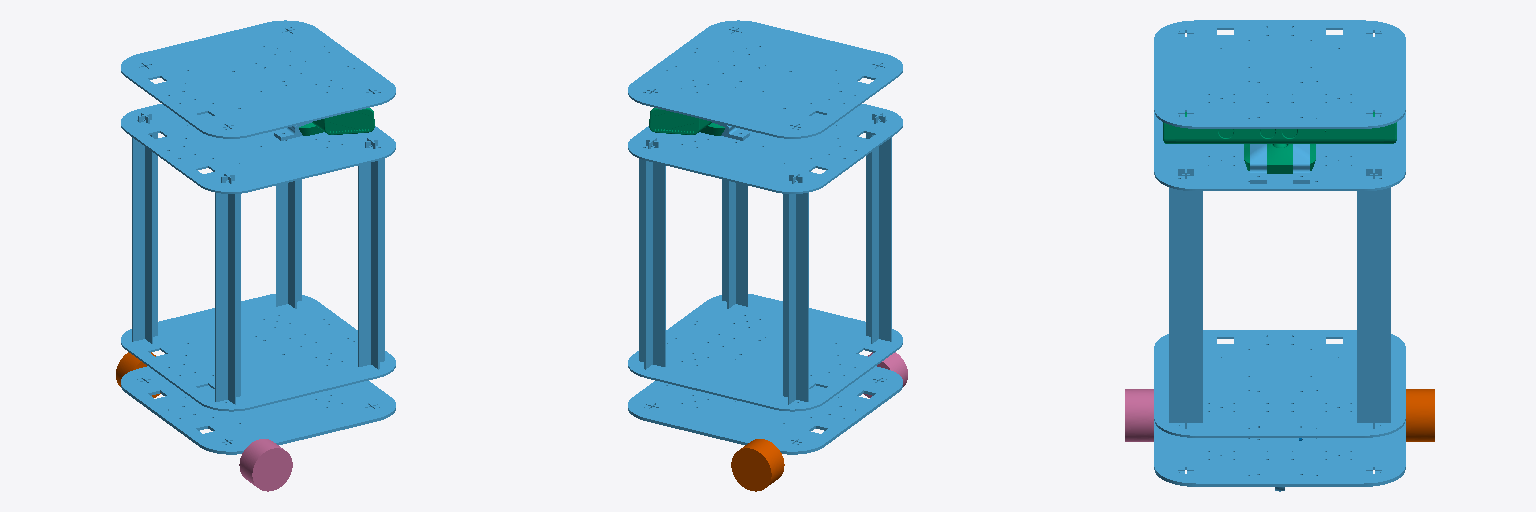
URDF robot description (kafebot):
<?xml version="1.0"?>
<robot name="kafebot">
  <link name="base_footprint">
  </link>
  <link name="base_link">
    <visual>
      <geometry>
        <mesh filename="package://kafebot/model/mesh/Frame.stl"/>
      </geometry>
      <origin xyz="0 0 0" rpy="0 0 0"/>
    </visual>
    <collision>
      <geometry>
        <mesh filename="package://kafebot/model/mesh/Frame.stl"/>
      </geometry>
      <origin xyz="0 0 0" rpy="0 0 0"/>
    </collision>
  </link>
  
  <link name="kinect">
    <visual>
      <geometry>
        <mesh filename="package://kafebot/model/mesh/Kinect.stl"/>
      </geometry>
      <origin xyz="0 0 0" rpy="0 0 0"/>
    </visual>
    <collision>
      <geometry>
        <mesh filename="package://kafebot/model/mesh/Kinect.stl"/>
      </geometry>
      <origin xyz="0 0 0" rpy="0 0 0"/>
    </collision>
  </link>
  
  <link name="camera_rgb_optical_frame">
  </link>

  <link name="IMU">
    <visual>
      <geometry>
        <mesh filename="package://kafebot/model/mesh/IMU.stl"/>
      </geometry>
      <origin xyz="0 0 0" rpy="0 0 0"/>
    </visual>
    <collision>
      <geometry>
        <mesh filename="package://kafebot/model/mesh/IMU.stl"/>
      </geometry>
      <origin xyz="0 0 0" rpy="0 0 0"/>
    </collision>
  </link>

  <link name="L_wheel">
    <visual>
      <geometry>
        <mesh filename="package://kafebot/model/mesh/L_wheel.stl"/>
      </geometry>
      <origin xyz="0 0 0" rpy="0 0 0"/>
    </visual>
    <collision>
      <geometry>
        <mesh filename="package://kafebot/model/mesh/L_wheel.stl"/>
      </geometry>
      <origin xyz="0 0 0" rpy="0 0 0"/>
    </collision>
  </link>

  <link name="R_wheel">
    <visual>
      <geometry>
        <mesh filename="package://kafebot/model/mesh/R_wheel.stl"/>
      </geometry>
      <origin xyz="0 0 0" rpy="0 0 0"/>
    </visual>
    <collision>
      <geometry>
        <mesh filename="package://kafebot/model/mesh/R_wheel.stl"/>
      </geometry>
      <origin xyz="0 0 0" rpy="0 0 0"/>
    </collision>
  </link>

  <joint name="base_footprint_base_link_joint" type="fixed">
    <parent link="base_footprint"/>
    <child link="base_link"/>
    <origin xyz="0 0 0"/>
  </joint>
  
  <joint name="Frame_R_wheel_joint" type="continuous">
    <axis xyz="0 1 0"/>
    <parent link="base_link"/>
    <child link="R_wheel"/>
    <origin xyz="0 0 0.0315"/>
  </joint>

  <joint name="Frame_L_wheel_joint" type="continuous">
    <axis xyz="0 1 0"/>
    <parent link="base_link"/>
    <child link="L_wheel"/>
    <origin xyz="0 0 0.0315"/>
  </joint>

  <joint name="Frame_Kinect_joint" type="fixed">
    <parent link="base_link"/>
    <child link="kinect"/>
    <origin xyz="0.1575 0 0.48432"/>
  </joint>
  
  <joint name="kinect_camera_rgb_optical_frame_joint" type="fixed">
    <parent link="kinect"/>
    <child link="camera_rgb_optical_frame"/>
    <origin rpy="90 0 0"/>
  </joint>

  <joint name="Frame_IMU_joint" type="fixed">
    <parent link="base_link"/>
    <child link="IMU"/>
    <origin xyz="0.13756 0.024499 0.064043"/>
  </joint>
  
</robot>

--- Facts derived from the render (not from the file) ---
3 views of the same robot in one strip: view 1: azimuth 30°, elevation 25°; view 2: azimuth 150°, elevation 25°; view 3: azimuth 270°, elevation 25° (orthographic).
Model kafebot with 7 links and 6 joints (2 continuous, 4 fixed), rooted at base_footprint, posed every joint at zero.
Links seen in each view (by area): view 1: base_link, R_wheel, kinect; view 2: base_link, L_wheel, kinect; view 3: base_link, kinect, L_wheel, R_wheel.
Boxes of the visible links, left/top/right/bottom form: base_link: left=121, top=20, right=395, bottom=454; R_wheel: left=239, top=439, right=292, bottom=491; kinect: left=299, top=108, right=374, bottom=135; base_link: left=628, top=20, right=902, bottom=454; L_wheel: left=731, top=439, right=784, bottom=491; kinect: left=649, top=108, right=724, bottom=135; base_link: left=1154, top=20, right=1405, bottom=491; kinect: left=1163, top=112, right=1396, bottom=173; L_wheel: left=1406, top=389, right=1434, bottom=441; R_wheel: left=1125, top=389, right=1153, bottom=441.
Size in the robot's own frame: 0.3 by 0.37 by 0.524 metres.
Meshes: 5 distinct files referenced, 5 mesh visuals loaded (5 binary STL).